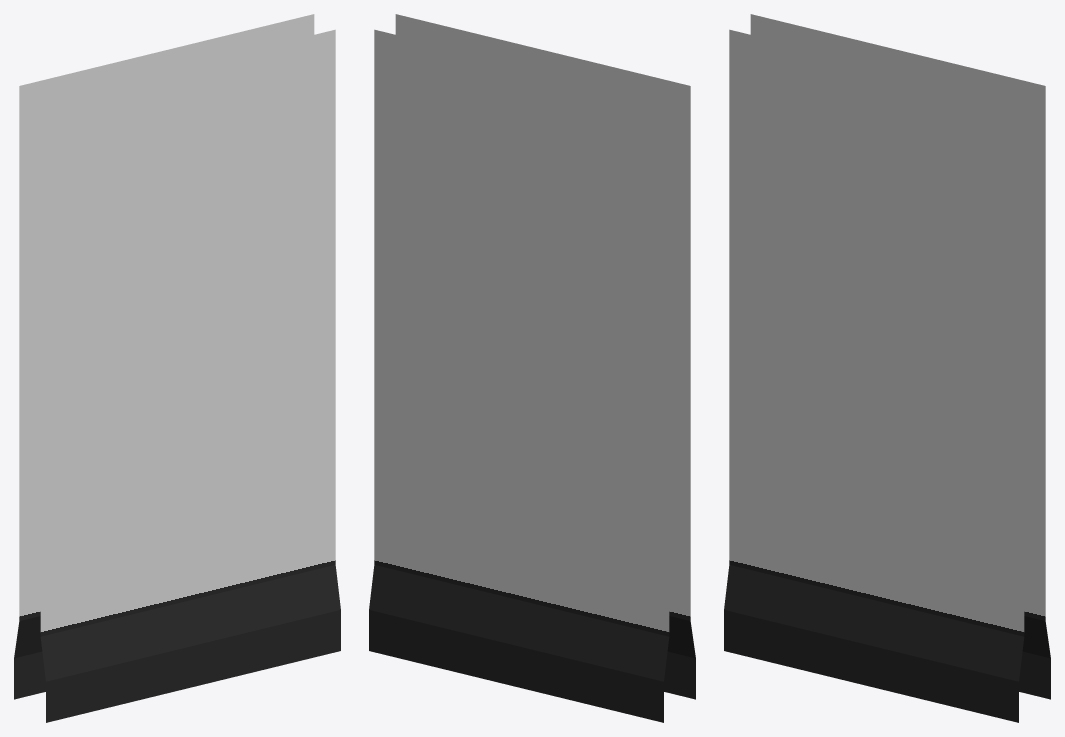
File: PlainWall.gltf
The picture shows the model from 3 angles, left to right: view 1: azimuth 30°, elevation 25°; view 2: azimuth 150°, elevation 25°; view 3: azimuth 330°, elevation 25°; orthographic projection.
Visible parts, largest first — view 1: cuboid; view 2: cuboid; view 3: cuboid.
Part boxes in pixels (box(x1,y1,x2,y2)): cuboid: box(14, 14, 340, 722); cuboid: box(369, 14, 695, 722); cuboid: box(724, 14, 1050, 722).
Bounding box in the file's own units: 2 × 4 × 0.375.
Materials: 1 (1 with a texture image).
